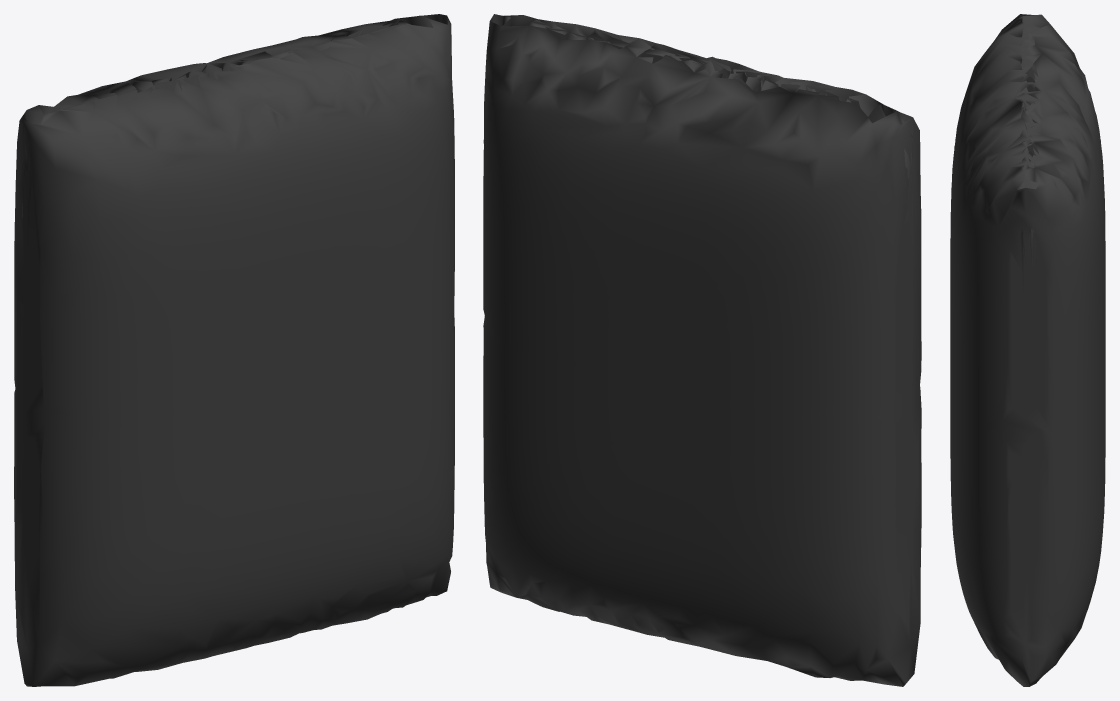
Rendered from snack_bag.glb.
The picture shows the model from 3 angles, left to right: view 1: azimuth 30°, elevation 25°; view 2: azimuth 150°, elevation 25°; view 3: azimuth 270°, elevation 25°; orthographic projection. The views are drawn at different scales.
Visible parts, largest first — view 1: bag; view 2: bag; view 3: bag.
Boxes of the visible parts, <box> form: bag: <box>14,14,454,686</box>; bag: <box>483,14,921,686</box>; bag: <box>950,14,1105,686</box>.
Bounding box in the file's own units: 0.1307 × 0.1714 × 0.048.
Materials: 1 (1 with a texture image).
